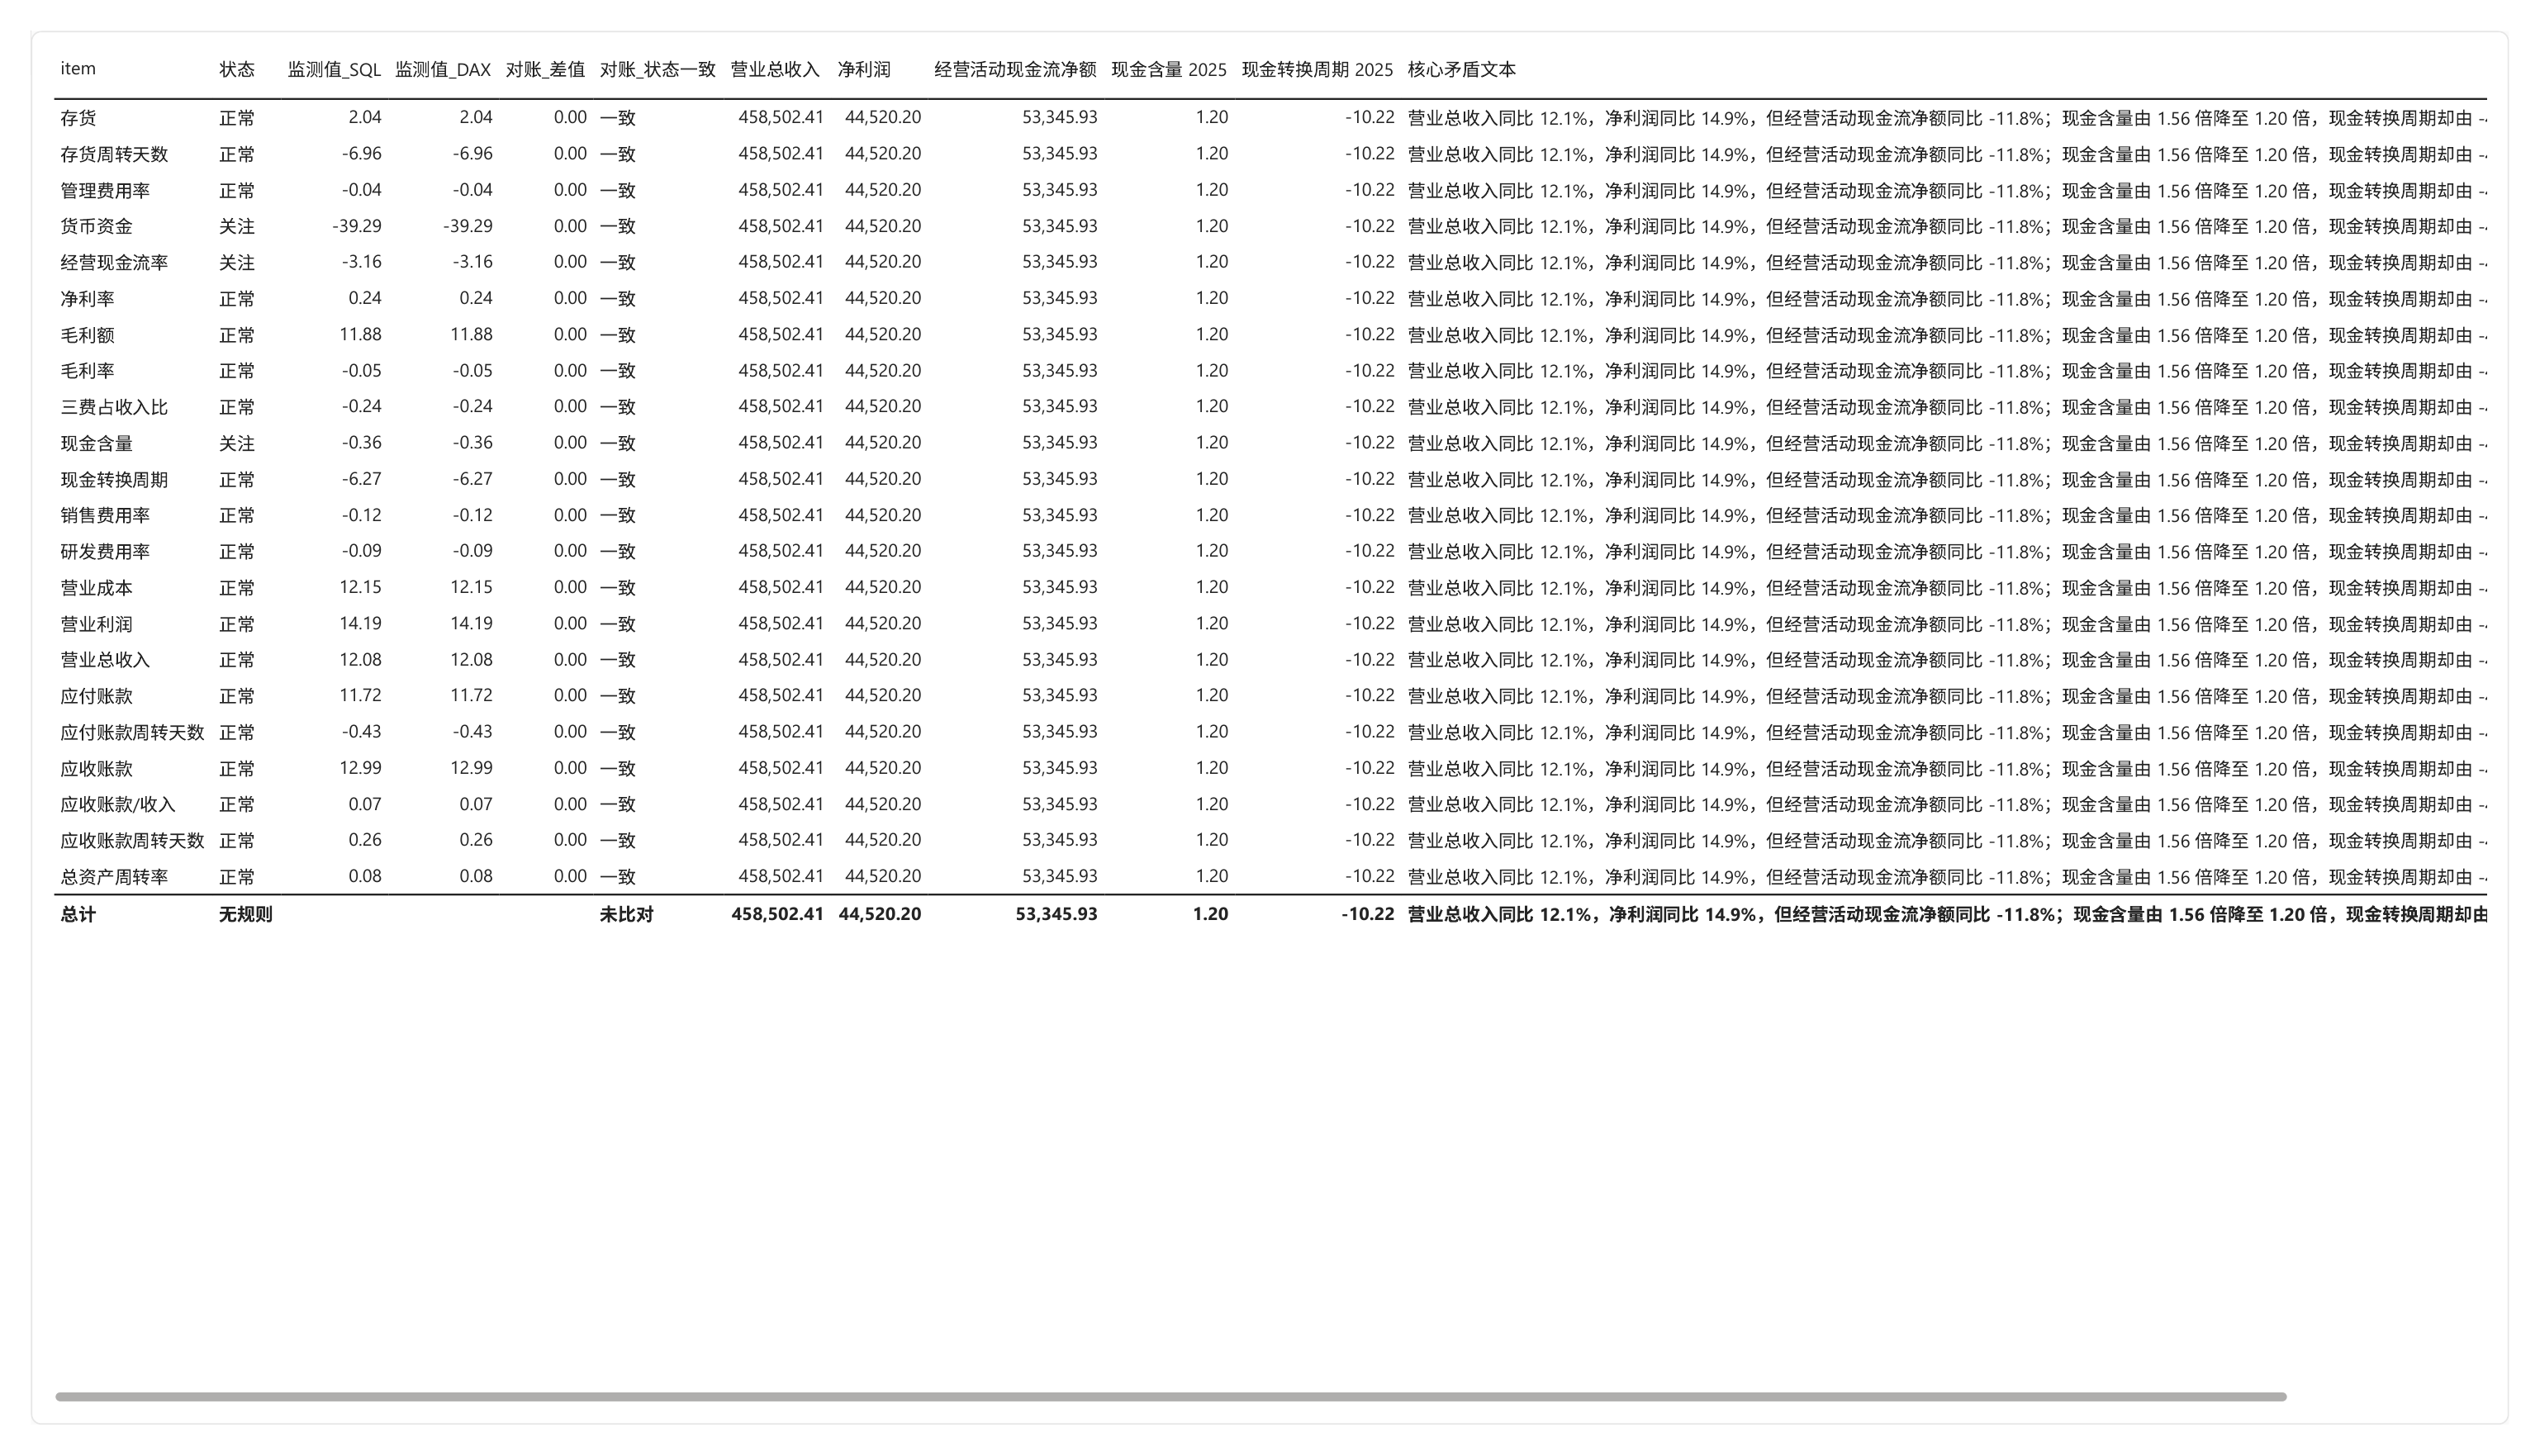

What the dashboard file says about the page in this screenshot:
{"tool":"powerbi","page":{"name":"总览","canvas":[1920,1080],"ordinal":0},"visuals":[{"type":"tableEx","fields":{"Values":["指标监测.item","指标监测.状态","指标监测.监测值_SQL","指标监测.监测值_DAX","指标监测.对账_差值","指标监测.对账_状态一致","年度透视.营业总收入","年度透视.净利润","年度透视.经营活动现金流净额","年度透视.现金含量 2025","年度透视.现金转换周期 2025","年度透视.核心矛盾文本"]},"box":[0,0,1920,1080],"z":0}]}

Visuals, with their boxes on the page's 1920x1080 design canvas (x1, y1, x2, y2). These are canvas units, not pixel positions in the 2540x1456 screenshot, which may show the page scaled, cropped or inside an application window:
tableEx - 指标监测.item x 指标监测.状态: {"x1": 0, "y1": 0, "x2": 1920, "y2": 1080}
